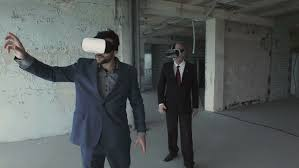oculus: (82, 37, 117, 57), (163, 47, 187, 63)
